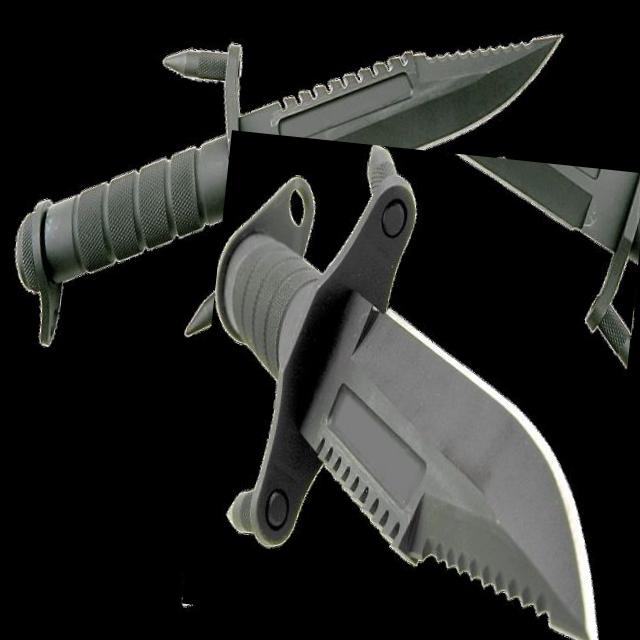Knife: (215, 145, 597, 640), (15, 35, 560, 341)
